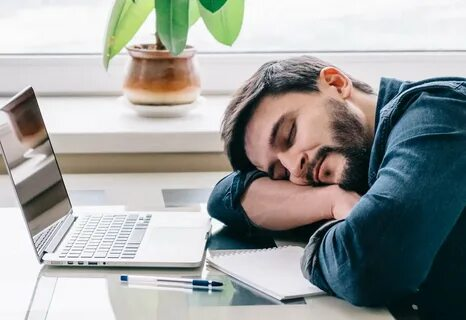sleep: (206, 53, 466, 307)
